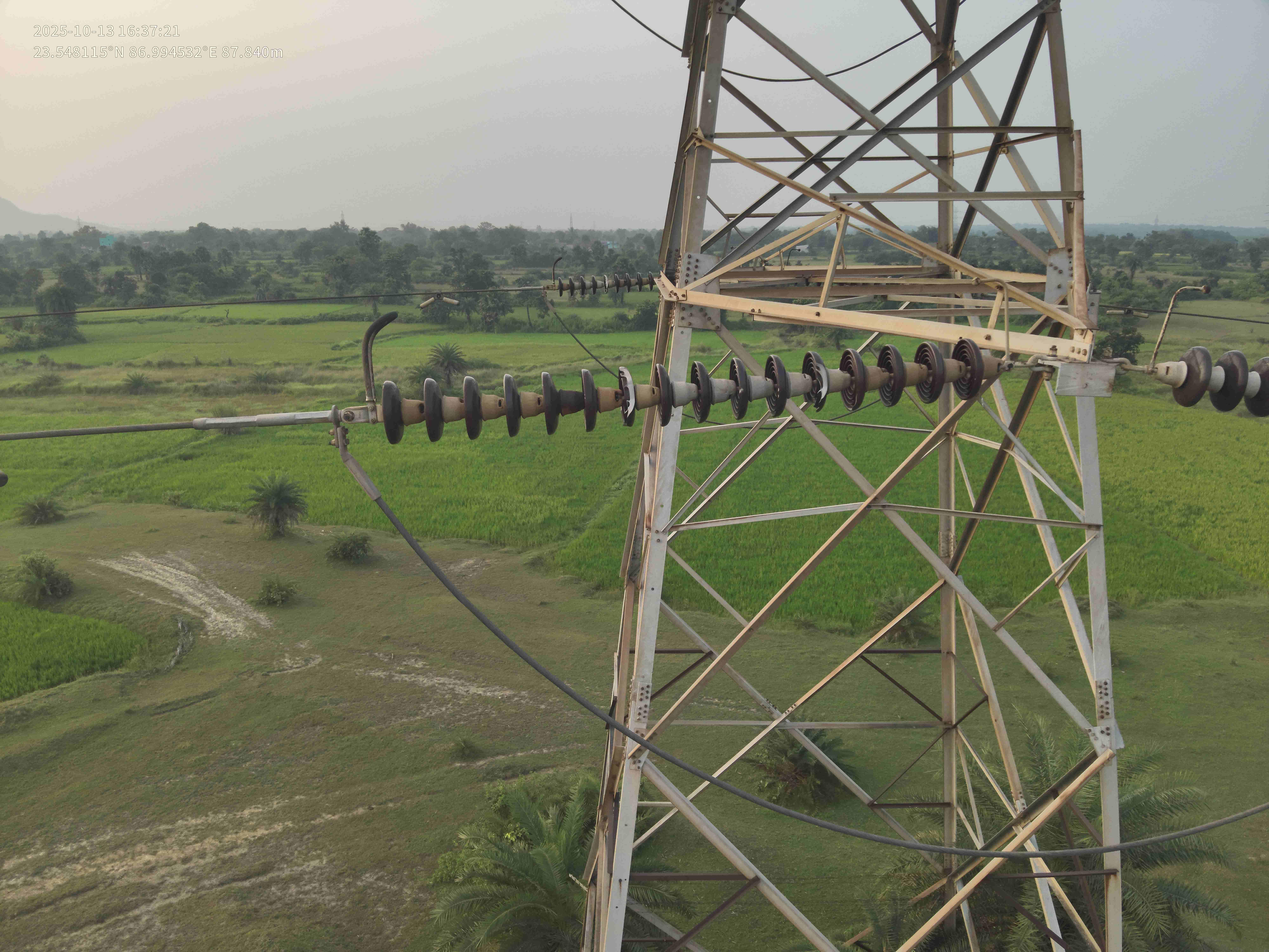broken_insulator: (795, 350, 833, 413), (610, 361, 645, 428), (602, 274, 609, 295)
